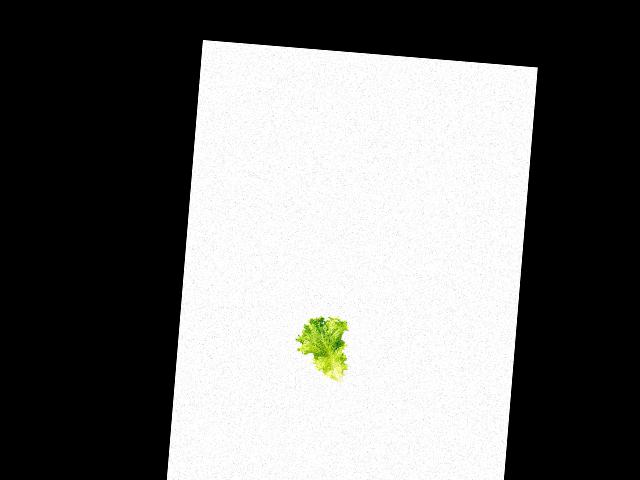lettuce: (293, 313, 349, 383)
